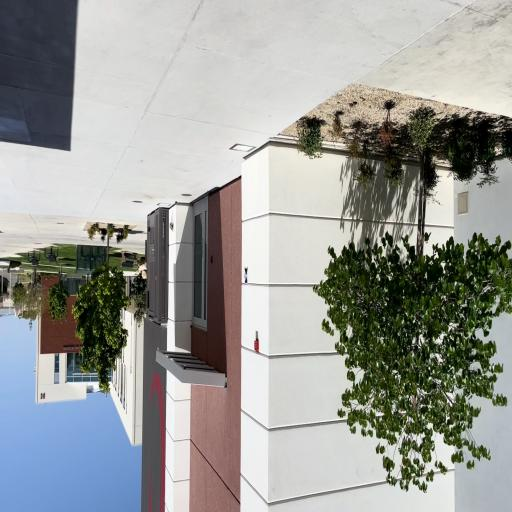target9: (244, 268, 248, 283)
